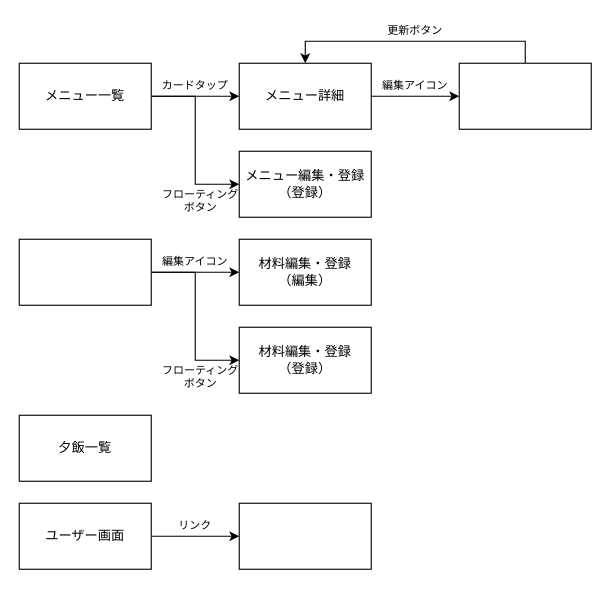
This 611x589 diagram has some shape labels left out. Each missing label, with the centre of its shape:
パスワード再設定 メール送信画面: point (304, 535)
メニュー編集・登録 （編集）: point (524, 95)
材料一覧: point (84, 271)
